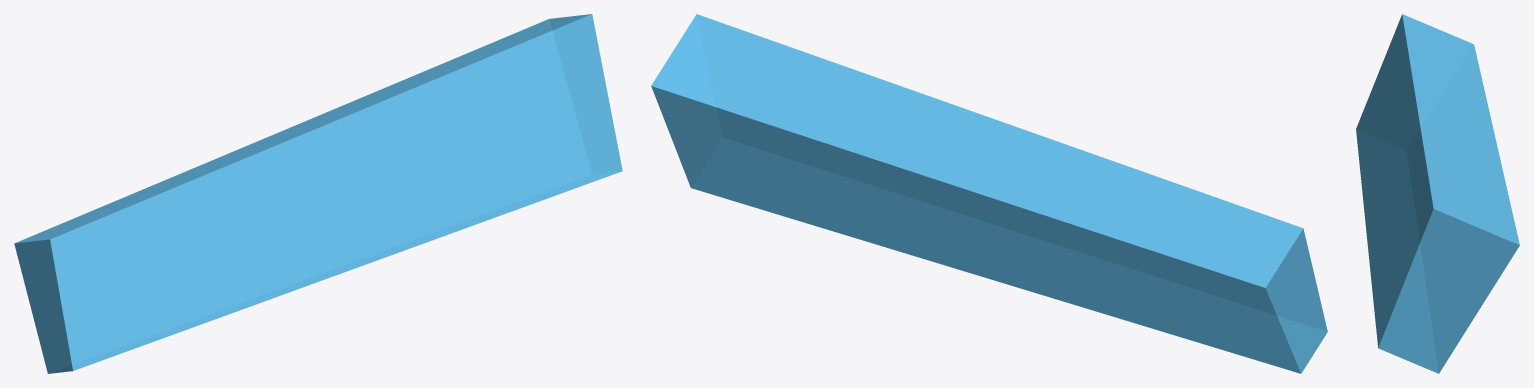
The model's file is Event_420107950_HErechit_70.fbx.
The picture shows the model from 3 angles, left to right: view 1: azimuth 30°, elevation 25°; view 2: azimuth 150°, elevation 25°; view 3: azimuth 270°, elevation 25°; orthographic projection. The views are drawn at different scales.
Parts seen in each view (by area): view 1: Model; view 2: Model; view 3: Model.
Boxes of the visible parts, x1,y1,x2,y2 form: Model: (14,14,622,373); Model: (651,14,1327,373); Model: (1356,14,1519,373).
Size of the model in its own units: 2.24 by 0.8187 by 0.567.
